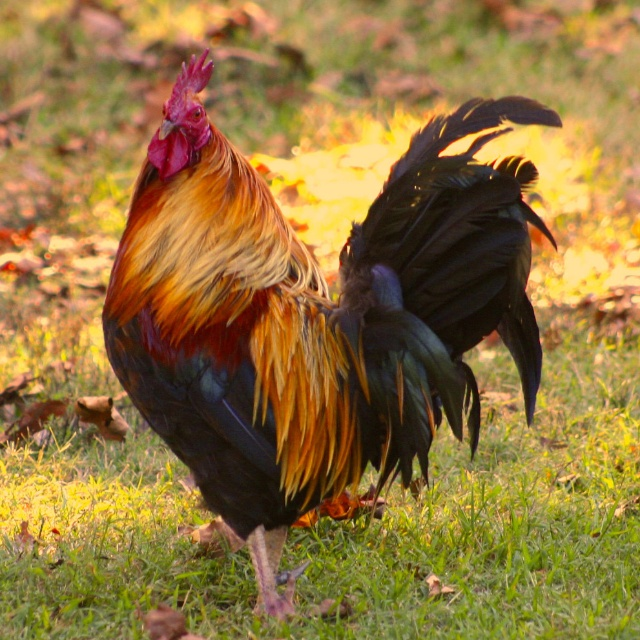Chicken: (96, 56, 516, 617)
